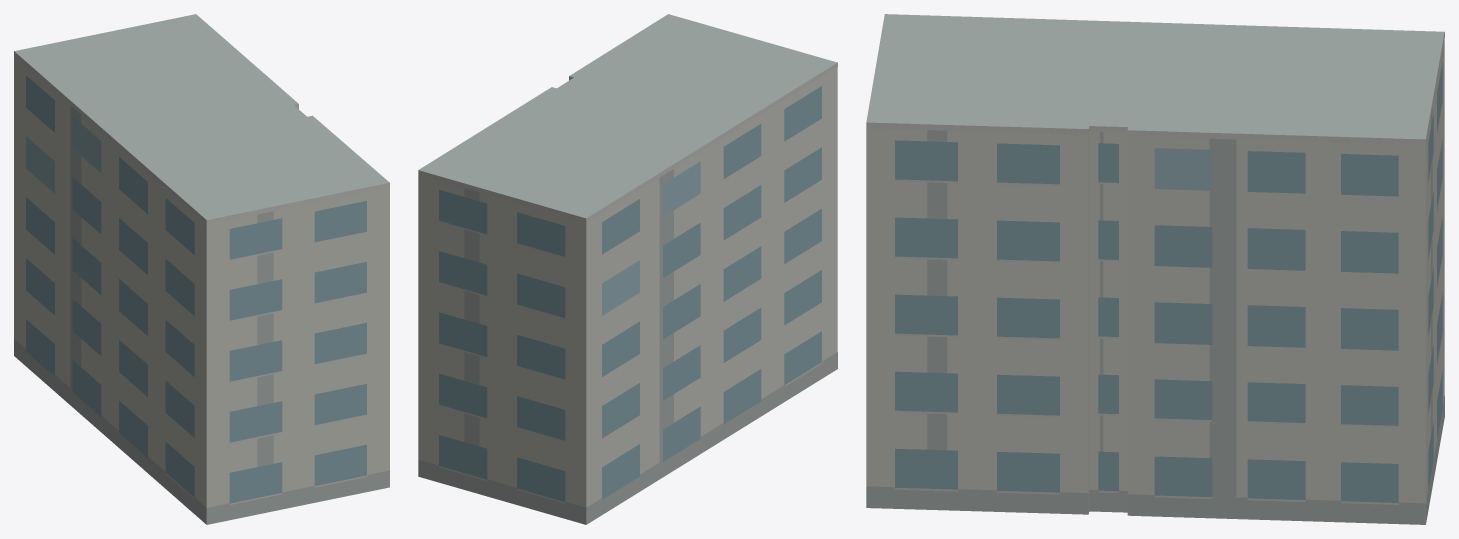
File: survey-upis-32763947.glb
3 views of the same model, side by side, from view 1: azimuth 30°, elevation 25°; view 2: azimuth 150°, elevation 25°; view 3: azimuth 270°, elevation 25° (orthographic). The views are drawn at different scales.
Parts seen in each view (by area): view 1: survey-upis-32763947.tmp; view 2: survey-upis-32763947.tmp; view 3: survey-upis-32763947.tmp.
Part boxes in pixels (x1,y1,x2,y2): survey-upis-32763947.tmp: (14,14,389,524); survey-upis-32763947.tmp: (418,14,837,524); survey-upis-32763947.tmp: (866,14,1444,524).
Bounding box in the file's own units: 11.07 × 15.85 × 21.57.
